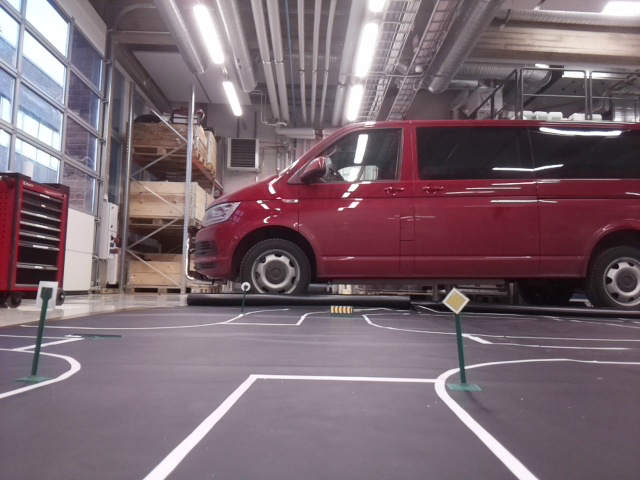Priority: (441, 286, 469, 311)
